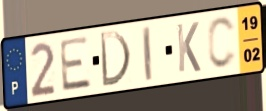2: (27, 39, 57, 100)
C: (206, 15, 238, 72)
D: (98, 30, 133, 89)
E: (58, 33, 94, 94)
I: (140, 24, 154, 84)
K: (175, 20, 202, 75)
